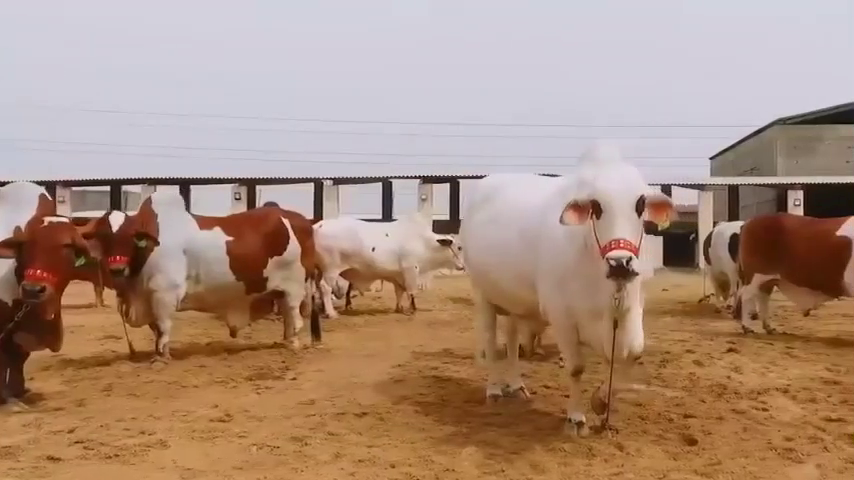bo: (462, 138, 677, 448), (79, 172, 326, 371), (311, 197, 466, 325), (3, 161, 79, 422), (740, 200, 854, 361), (700, 203, 744, 310)
